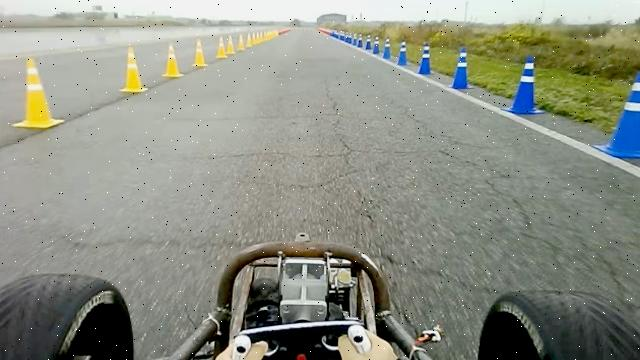blue cone: (593, 70, 640, 158), (502, 55, 545, 114), (449, 46, 474, 90), (417, 41, 435, 75), (398, 40, 410, 66), (382, 37, 392, 59)
yellow cone: (12, 57, 65, 129), (120, 46, 148, 93), (162, 41, 184, 78), (192, 38, 208, 66), (216, 35, 228, 59)
